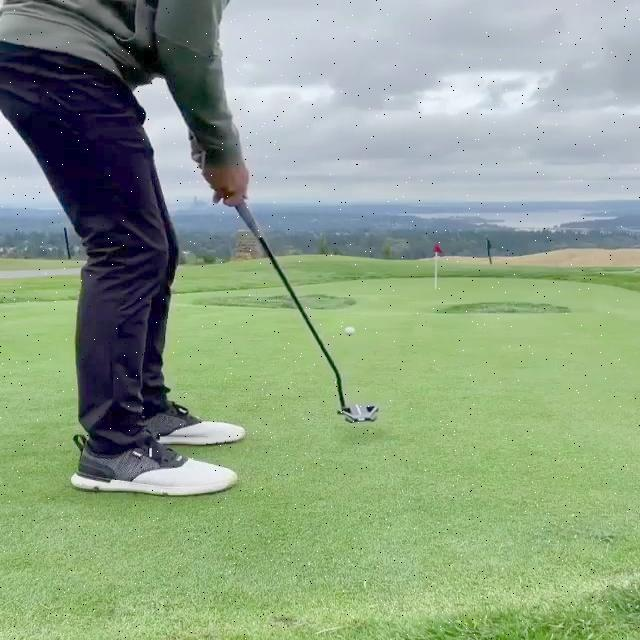golf ball: (345, 327, 357, 335)
golf club-handle: (225, 195, 383, 424)
golf club-head: (339, 403, 378, 425)
